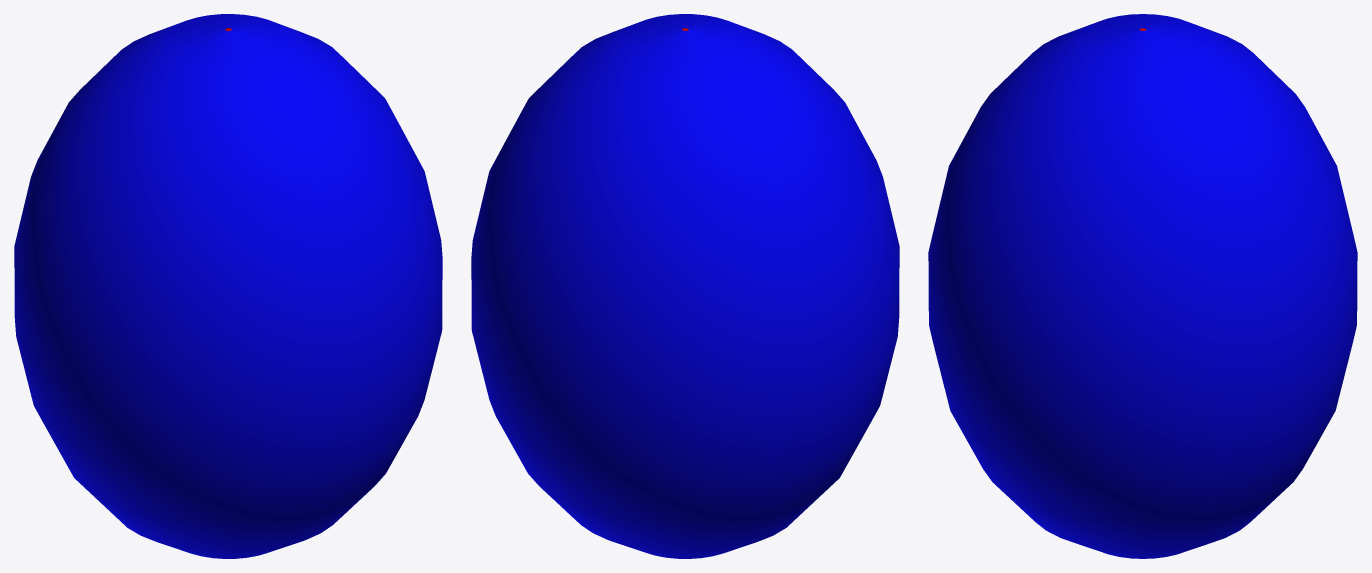
The model's file is DestroyingAngel_Growth.glb.
3 views of the same model, side by side, from view 1: azimuth 30°, elevation 25°; view 2: azimuth 150°, elevation 25°; view 3: azimuth 270°, elevation 25° (orthographic).
Visible parts, largest first — view 1: DestroyingAngel; view 2: DestroyingAngel; view 3: DestroyingAngel.
Boxes of the visible parts, x1,y1,x2,y2 form: DestroyingAngel: (14, 14, 442, 558); DestroyingAngel: (471, 14, 899, 558); DestroyingAngel: (928, 14, 1357, 558).
Bounding box in the file's own units: 0.0396 × 0.0523 × 0.0396.
